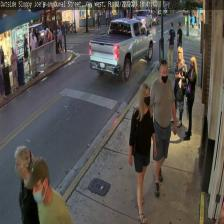person: (128, 82, 157, 224), (148, 60, 176, 195), (24, 156, 74, 224), (14, 144, 36, 224), (169, 46, 186, 128), (182, 56, 198, 140), (167, 22, 176, 68)
